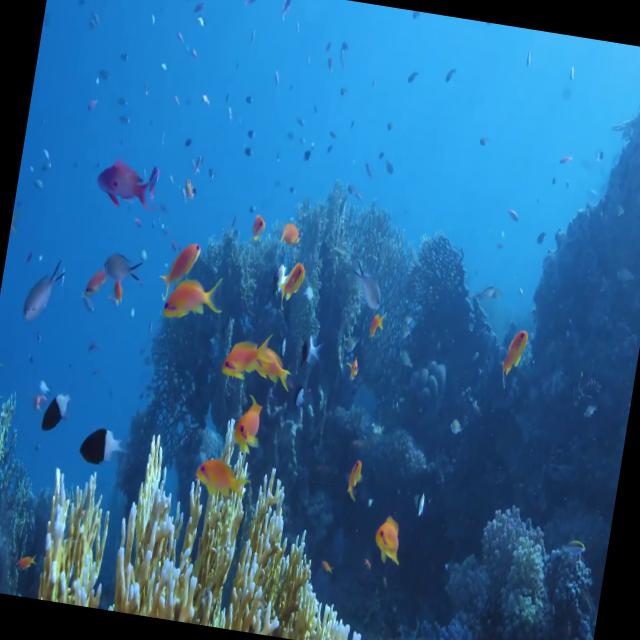fish: (17, 252, 67, 334), (90, 156, 154, 208), (160, 279, 226, 324), (187, 454, 251, 500), (161, 232, 206, 287), (496, 319, 530, 390), (98, 244, 150, 288), (221, 332, 262, 387), (80, 420, 124, 469), (249, 347, 295, 393), (35, 390, 71, 438), (372, 519, 404, 568)
